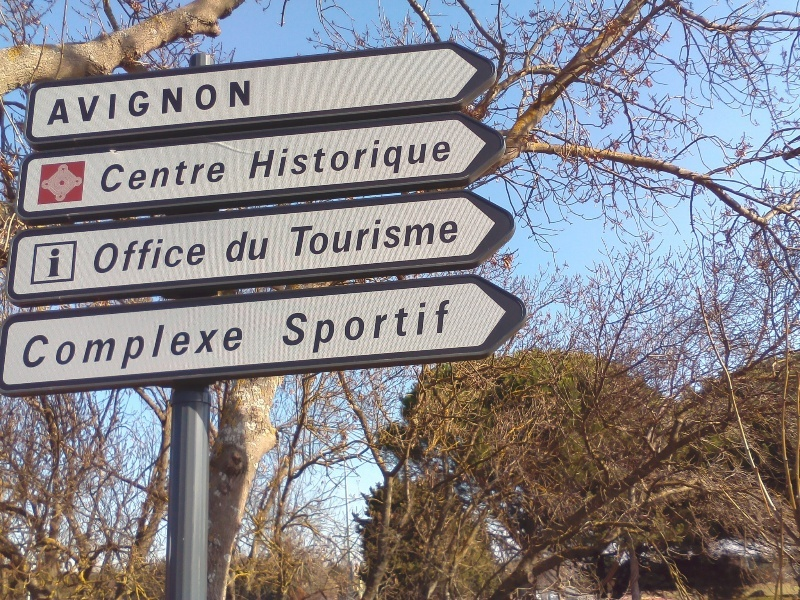text: (289, 298, 304, 357), (305, 298, 320, 357), (321, 298, 336, 357), (337, 298, 352, 357), (353, 298, 368, 357), (369, 298, 384, 357), (385, 298, 400, 357), (401, 298, 416, 357), (417, 298, 432, 357), (433, 298, 448, 357), (33, 318, 48, 376), (49, 318, 64, 376), (65, 318, 80, 376), (81, 318, 96, 376), (97, 318, 112, 376), (113, 318, 128, 376), (129, 318, 144, 376), (145, 318, 160, 376), (161, 318, 176, 376), (177, 318, 192, 376), (193, 318, 208, 376), (209, 318, 224, 376), (225, 318, 240, 376), (49, 77, 64, 126), (65, 77, 80, 126), (81, 77, 96, 126), (97, 77, 112, 126), (113, 77, 128, 126), (129, 77, 144, 126), (145, 77, 160, 126), (161, 77, 176, 126), (177, 77, 192, 126), (193, 77, 208, 126), (209, 77, 224, 126), (225, 77, 240, 126), (241, 77, 256, 126), (257, 134, 272, 183), (273, 134, 288, 183), (289, 134, 304, 183), (305, 134, 320, 183), (321, 134, 336, 183), (337, 134, 352, 183), (353, 134, 368, 183), (369, 134, 384, 183), (385, 134, 400, 183), (401, 134, 416, 183), (417, 134, 432, 183), (433, 134, 448, 183), (305, 213, 320, 259), (321, 213, 336, 259), (337, 213, 352, 259), (353, 213, 368, 259), (369, 213, 384, 259), (385, 213, 400, 259), (401, 213, 416, 259), (417, 213, 432, 259), (433, 213, 448, 259), (290, 213, 304, 259), (97, 235, 112, 276), (113, 235, 128, 276), (129, 235, 144, 276), (145, 235, 160, 276), (161, 235, 176, 276), (177, 235, 192, 276), (193, 235, 208, 276), (449, 213, 462, 259), (113, 158, 128, 195), (129, 158, 144, 195), (145, 158, 160, 195), (161, 158, 176, 195), (177, 158, 192, 195), (193, 158, 208, 195), (209, 158, 224, 195), (241, 227, 256, 264), (257, 227, 272, 264), (49, 246, 64, 280), (228, 227, 240, 264), (101, 158, 112, 195), (26, 318, 32, 376), (283, 298, 288, 357), (241, 318, 246, 376), (449, 134, 454, 183), (225, 158, 230, 195), (449, 298, 451, 357), (254, 134, 256, 183), (46, 246, 48, 280), (95, 235, 96, 276), (65, 246, 66, 280)
